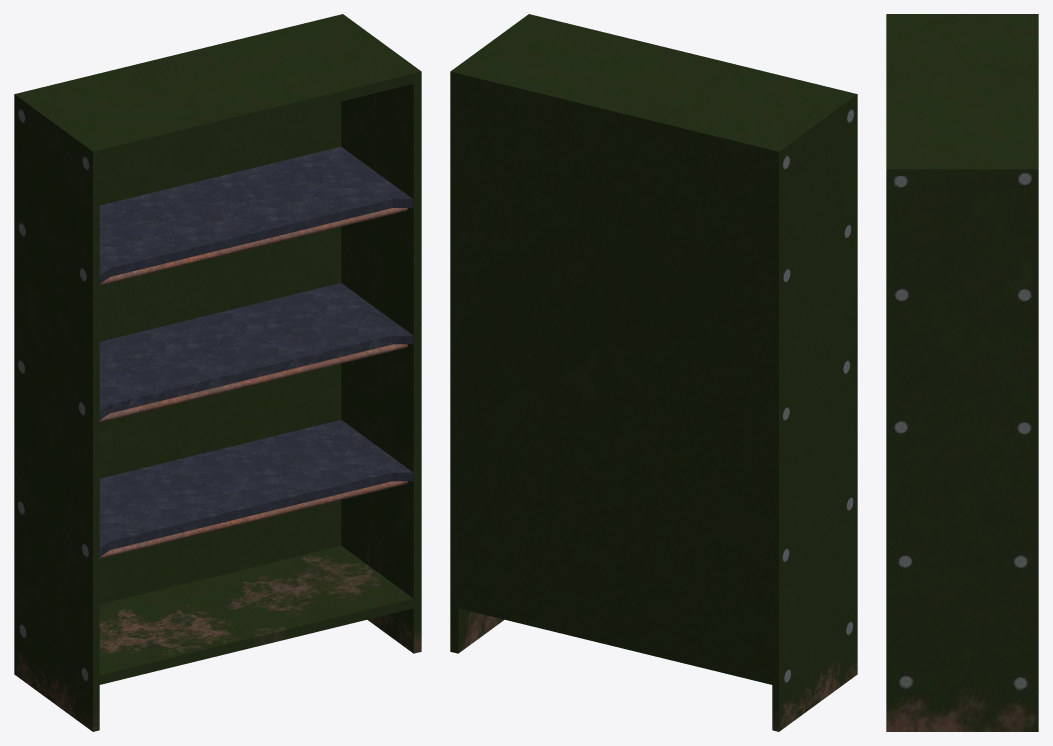
The model's file is cabinet.fbx.
3 views of the same model, side by side, from view 1: azimuth 30°, elevation 25°; view 2: azimuth 150°, elevation 25°; view 3: azimuth 270°, elevation 25° (orthographic). The views are drawn at different scales.
Parts seen in each view (by area): view 1: Plane001_2; view 2: Plane001_2; view 3: Plane001_2.
Part boxes in pixels (box(x1,y1,x2,y2)): Plane001_2: box(14, 14, 421, 731); Plane001_2: box(450, 14, 857, 731); Plane001_2: box(886, 14, 1038, 731).
Size of the model in its own units: 0.3528 by 0.5952 by 0.1462.
4 materials, 3 textured.
